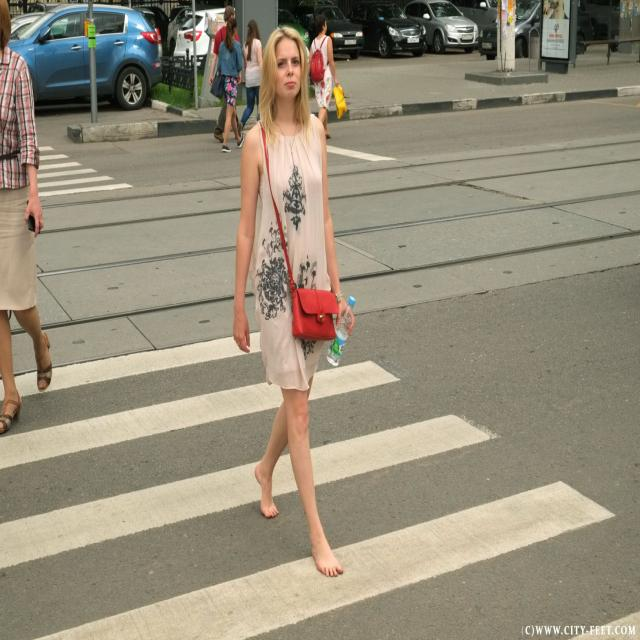No Safety Boots: (254, 461, 279, 518), (311, 537, 343, 577)
